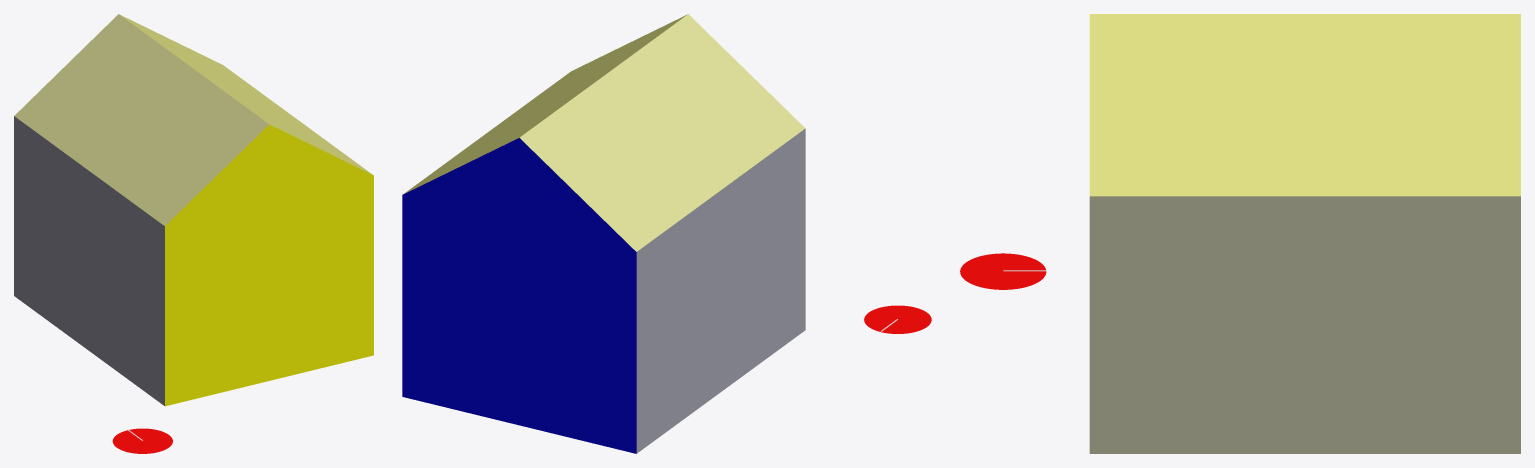
File: result.glb
3 views of the same model, side by side, from view 1: azimuth 30°, elevation 25°; view 2: azimuth 150°, elevation 25°; view 3: azimuth 270°, elevation 25° (orthographic). The views are drawn at different scales.
Parts seen in each view (by area): view 1: e470f3ec-2ba4-4cf0-b700-883fca4faf26__undefined, ff36bfe9-863e-4570-9011-1578606b08aa__undefined, ed52cd35-c04d-4d9f-8184-361c98450cb1__undefined, 20e12c33-613c-42ef-9b99-bc411132ed14__undefined, 335a21b1-2b88-4301-8a9e-5c07aae2cd9c__Circle; view 2: e2ef1800-c7bb-43b8-885d-db025aa984e0__undefined, ff36bfe9-863e-4570-9011-1578606b08aa__undefined, ed52cd35-c04d-4d9f-8184-361c98450cb1__undefined, 20e12c33-613c-42ef-9b99-bc411132ed14__undefined, 335a21b1-2b88-4301-8a9e-5c07aae2cd9c__Circle; view 3: 55be84cb-e120-41da-b0f9-e5bfba5fefaa__undefined, 20e12c33-613c-42ef-9b99-bc411132ed14__undefined, 335a21b1-2b88-4301-8a9e-5c07aae2cd9c__Circle.
Part boxes in pixels (box(x1,y1,x2,y2)): e470f3ec-2ba4-4cf0-b700-883fca4faf26__undefined: box(165, 124, 373, 406); ff36bfe9-863e-4570-9011-1578606b08aa__undefined: box(14, 116, 164, 405); ed52cd35-c04d-4d9f-8184-361c98450cb1__undefined: box(14, 14, 268, 225); 20e12c33-613c-42ef-9b99-bc411132ed14__undefined: box(119, 14, 372, 174); 335a21b1-2b88-4301-8a9e-5c07aae2cd9c__Circle: box(112, 428, 172, 453); e2ef1800-c7bb-43b8-885d-db025aa984e0__undefined: box(402, 138, 636, 453); ff36bfe9-863e-4570-9011-1578606b08aa__undefined: box(636, 128, 805, 453); ed52cd35-c04d-4d9f-8184-361c98450cb1__undefined: box(519, 14, 805, 251); 20e12c33-613c-42ef-9b99-bc411132ed14__undefined: box(403, 14, 687, 194); 335a21b1-2b88-4301-8a9e-5c07aae2cd9c__Circle: box(864, 305, 931, 333); 55be84cb-e120-41da-b0f9-e5bfba5fefaa__undefined: box(1089, 196, 1520, 453); 20e12c33-613c-42ef-9b99-bc411132ed14__undefined: box(1089, 14, 1520, 196); 335a21b1-2b88-4301-8a9e-5c07aae2cd9c__Circle: box(960, 253, 1046, 289).
Bounding box in the file's own units: 550 × 469 × 650.
